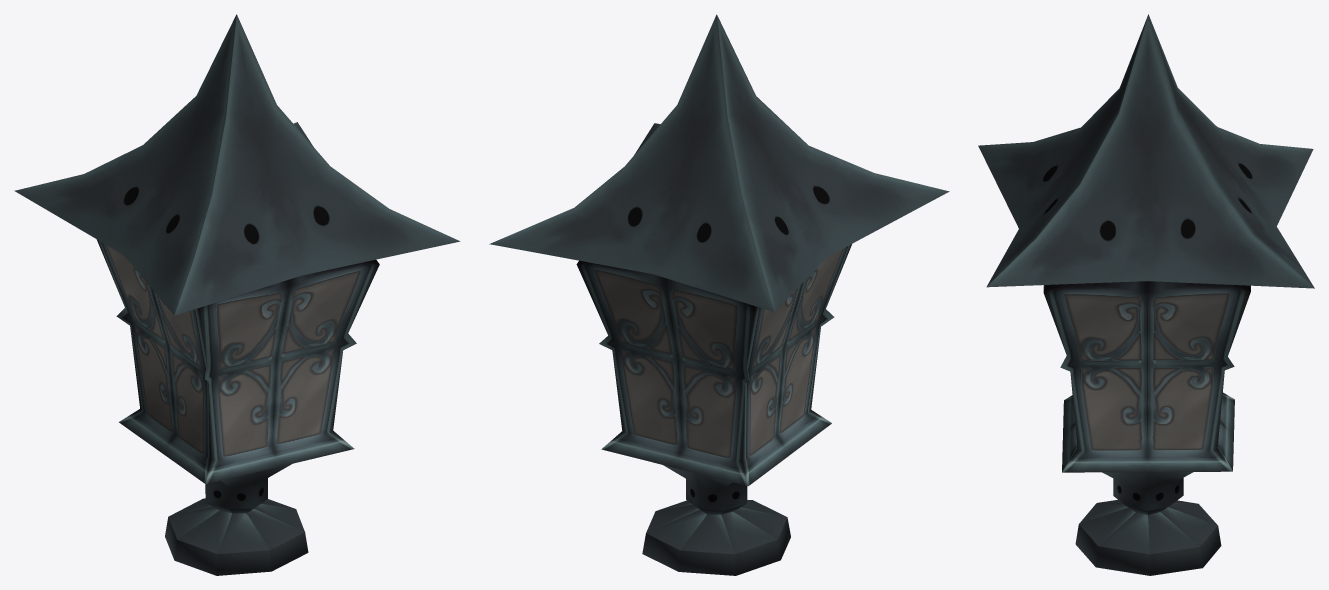
File: GothicLamp_HD.fbx
3 renders of one model, left to right at view 1: azimuth 30°, elevation 25°; view 2: azimuth 150°, elevation 25°; view 3: azimuth 270°, elevation 25°, orthographic.
Parts seen in each view (by area): view 1: GothicLamp; view 2: GothicLamp; view 3: GothicLamp.
Part boxes in pixels (x1,y1,x2,y2): GothicLamp: (14, 14, 460, 575); GothicLamp: (489, 14, 949, 575); GothicLamp: (978, 14, 1314, 575).
Size of the model in its own units: 0.4791 by 0.8333 by 0.4791.
